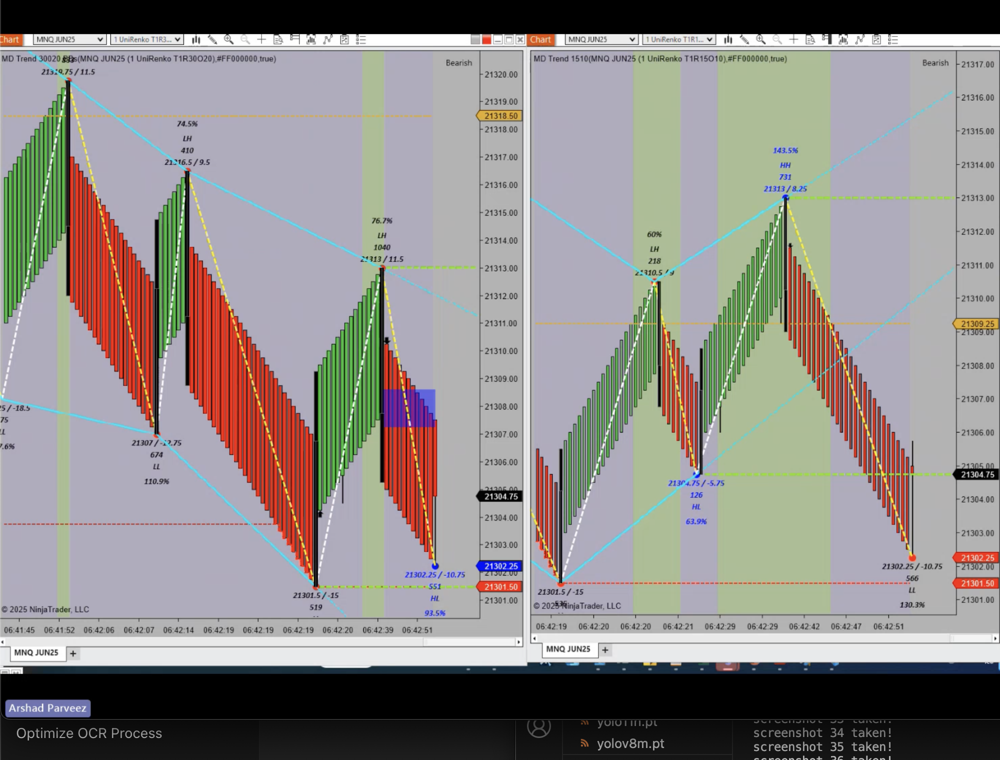HH: (776, 158, 800, 172)
HL: (426, 590, 447, 607), (688, 499, 708, 516)
LH: (371, 227, 393, 243), (644, 242, 667, 257), (177, 130, 199, 145)
LL: (149, 459, 168, 476), (904, 580, 921, 597)
